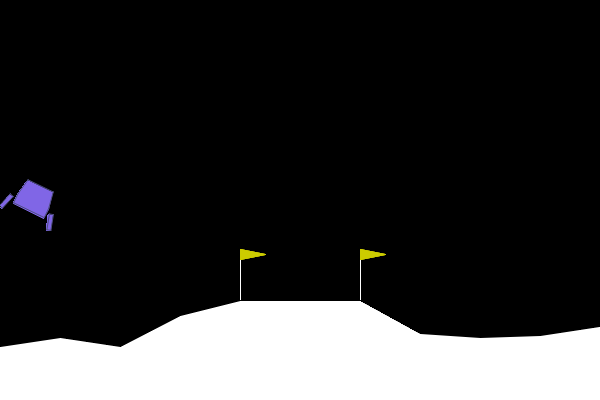lander: (0, 171, 68, 233)
